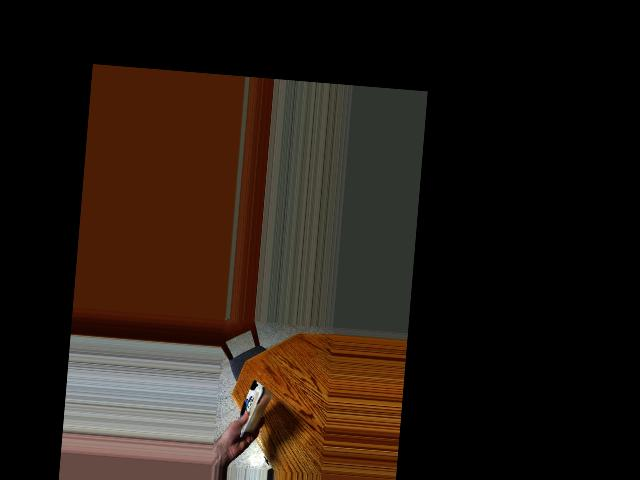cheese: (228, 380, 275, 434)
